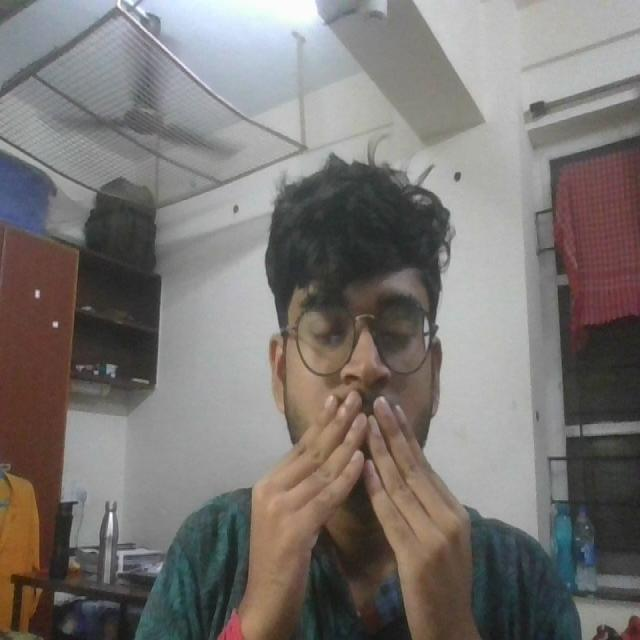Thanks: (247, 377, 474, 640)
